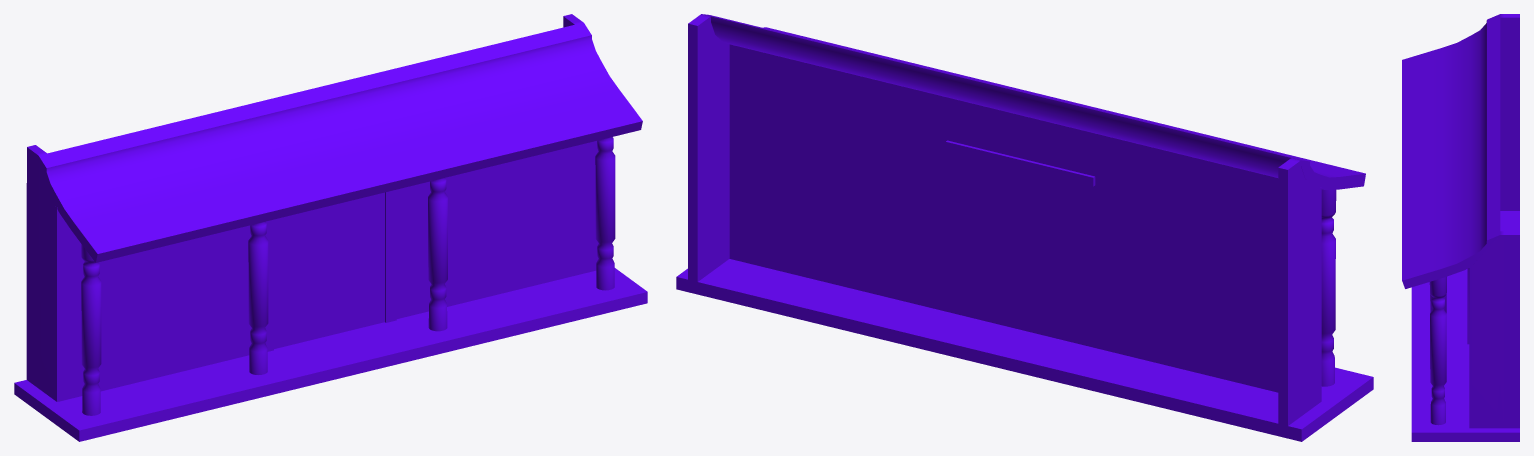
The model's file is Building_Base.FBX.
3 views of the same model, side by side, from view 1: azimuth 30°, elevation 25°; view 2: azimuth 150°, elevation 25°; view 3: azimuth 270°, elevation 25° (orthographic). The views are drawn at different scales.
Parts seen in each view (by area): view 1: Building_Base; view 2: Building_Base; view 3: Building_Base.
Part boxes in pixels (left/top/right/bottom): Building_Base: left=14, top=14, right=647, bottom=441; Building_Base: left=676, top=14, right=1373, bottom=441; Building_Base: left=1402, top=14, right=1519, bottom=441.
Size of the model in its own units: 790 by 324 by 171.
